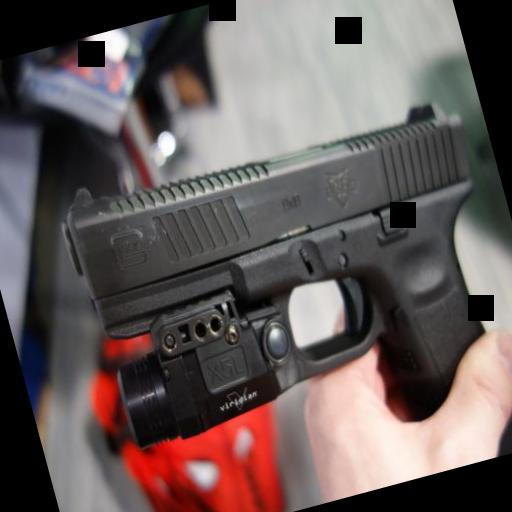Handgun: (50, 85, 512, 512)
